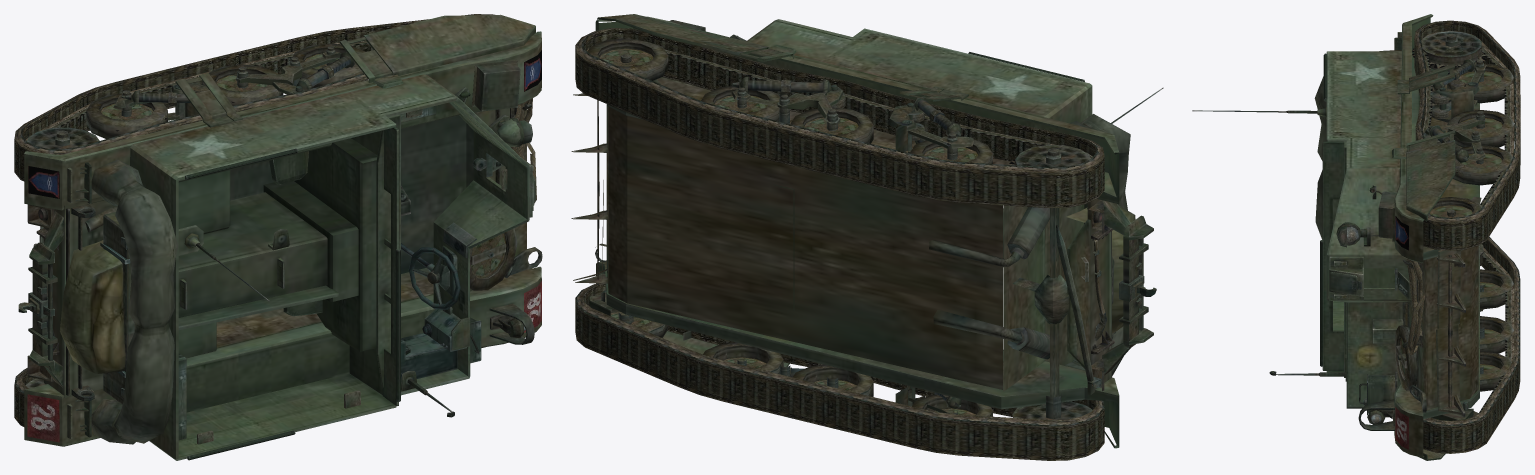
File: vehicle_uni_carrier_gr_mud.glb
3 renders of one model, left to right at view 1: azimuth 30°, elevation 25°; view 2: azimuth 150°, elevation 25°; view 3: azimuth 270°, elevation 25°, orthographic. The views are drawn at different scales.
Size of the model in its own units: 159 by 93.89 by 103.
4 materials, 4 textured.
